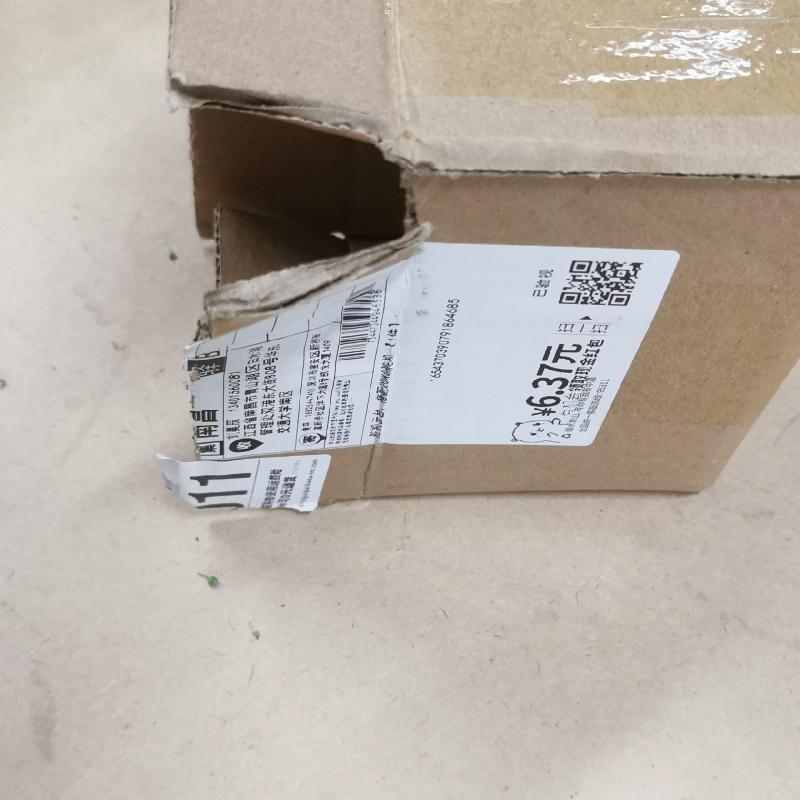boxes: (157, 1, 799, 518)
